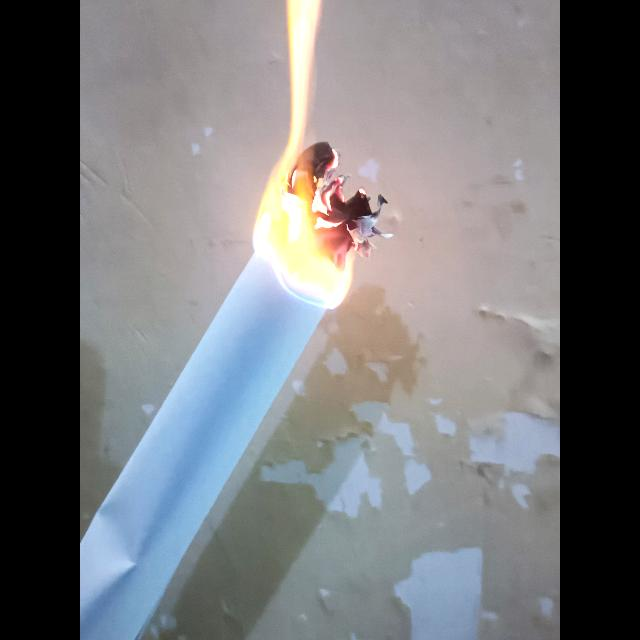fire: (255, 0, 352, 308)
